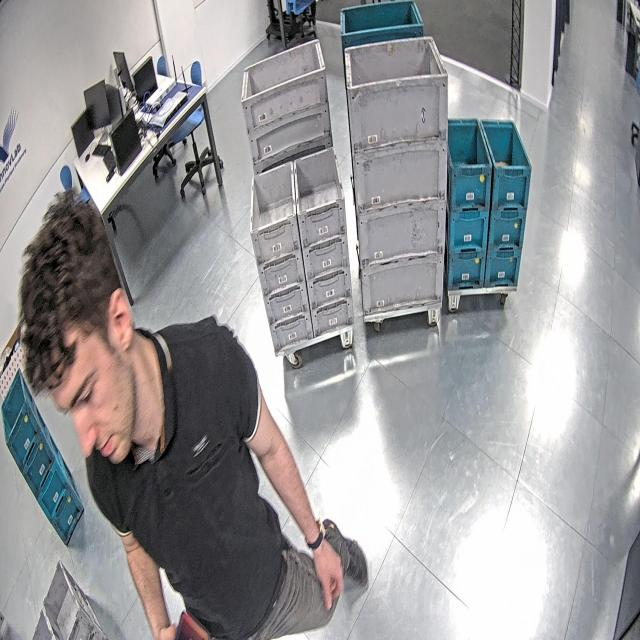Box3G: (240, 37, 338, 302)
Box4G: (343, 32, 450, 319)
Box8G: (248, 144, 356, 357)
BoxB4: (337, 0, 436, 283)
BoxB8: (440, 117, 533, 294)
